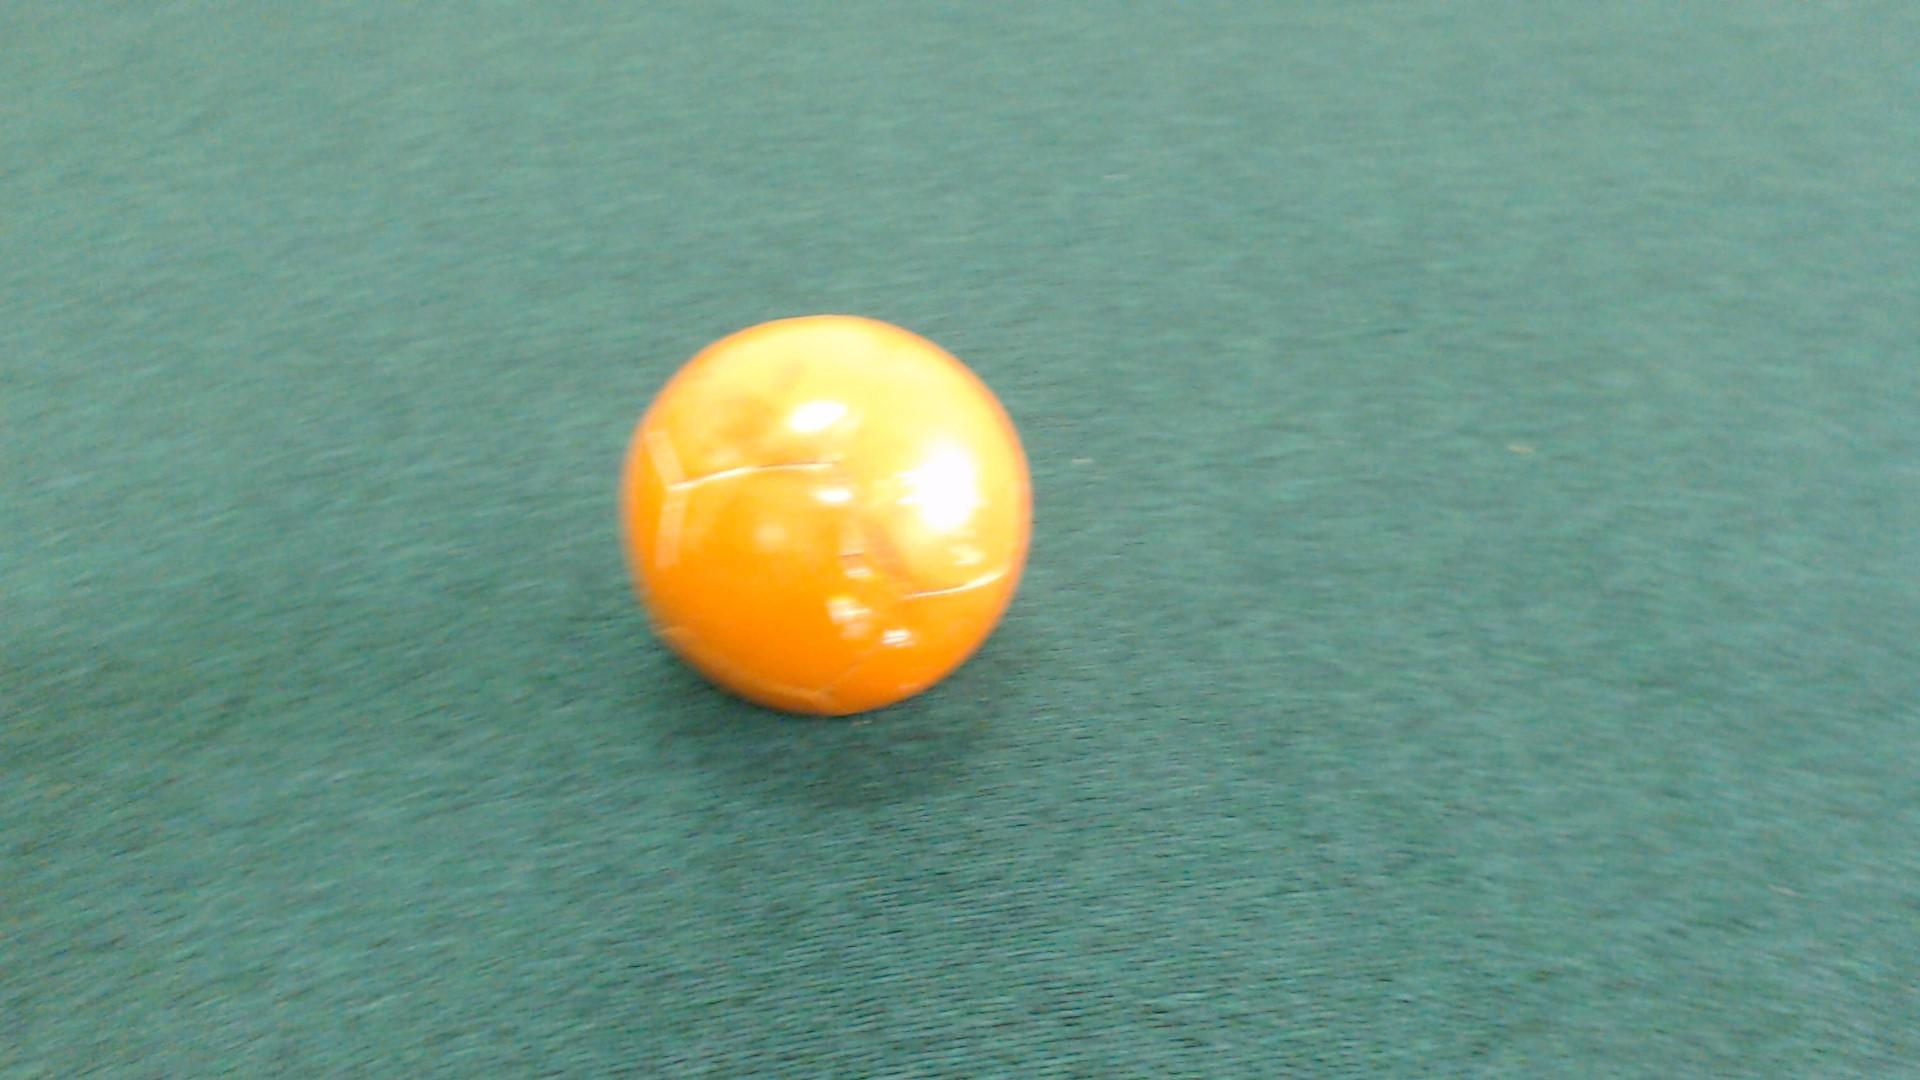bola: (571, 302, 1072, 750)
